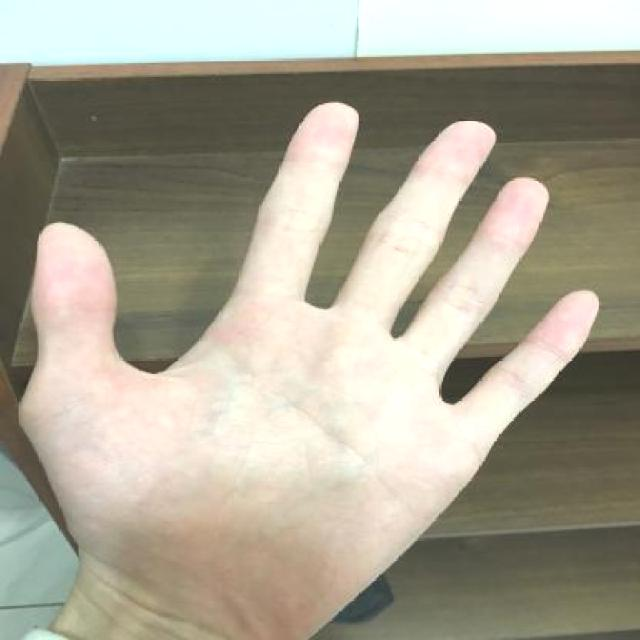no_glove: (8, 84, 629, 638)
